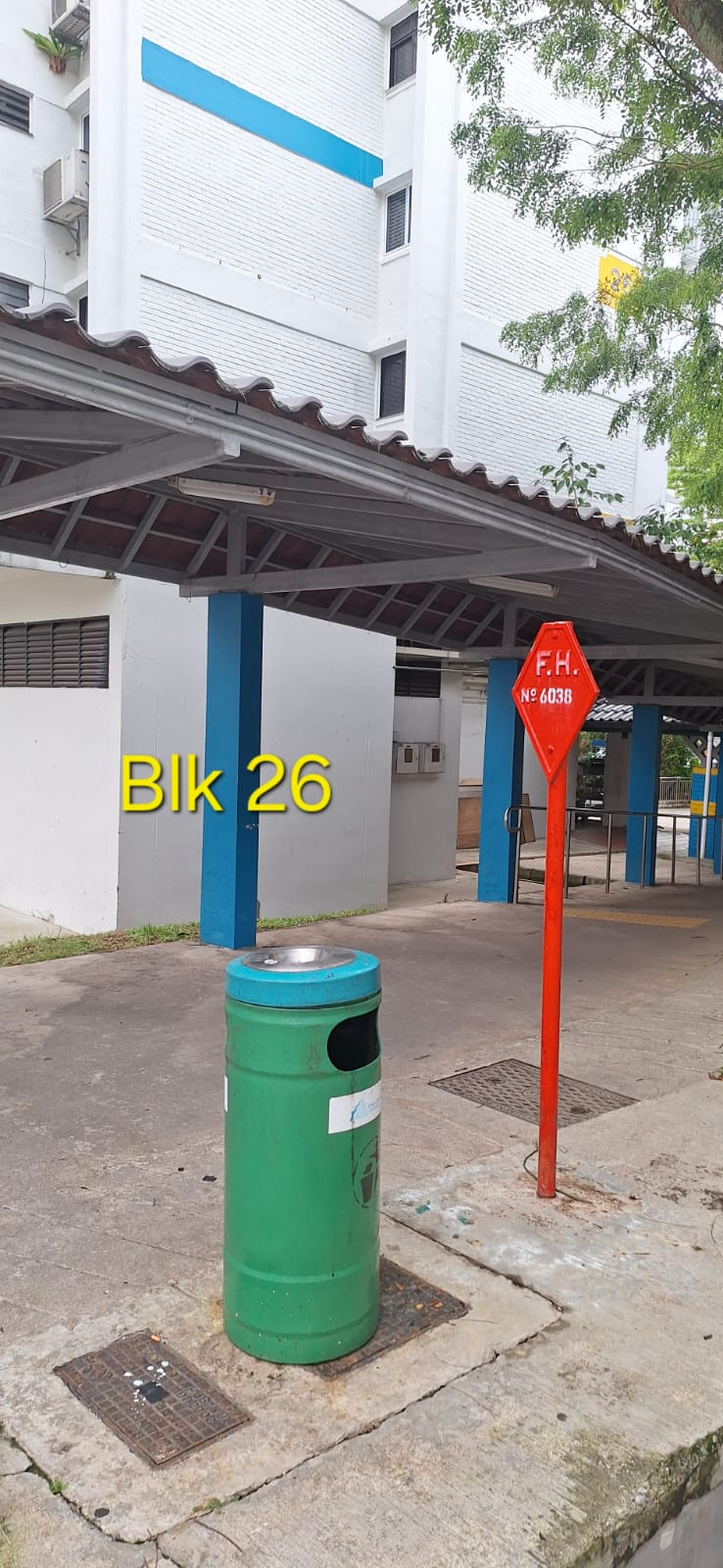bin_empty: (222, 943, 380, 1364)
